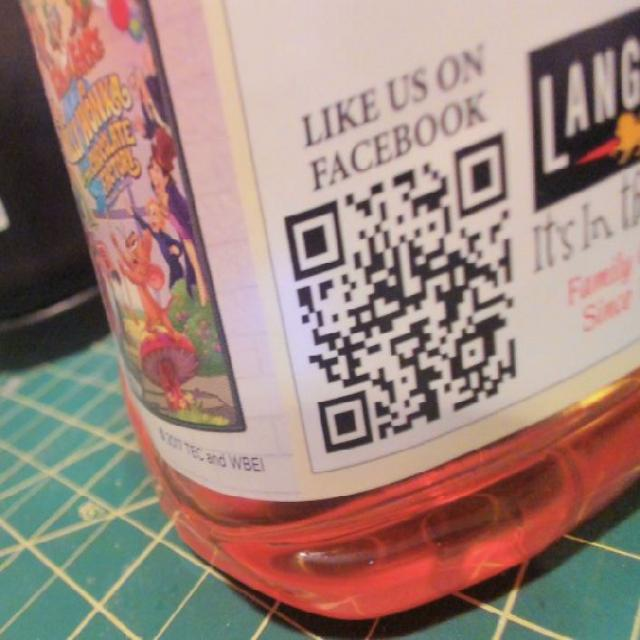QR_CODE: (262, 107, 528, 469)
